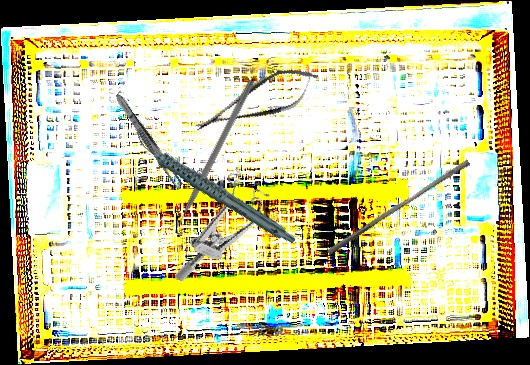Chopper: (162, 74, 256, 236)
Dressing Forceps: (112, 91, 185, 190)
Handpiece: (131, 103, 298, 274)
Micro Scissor: (186, 56, 327, 146)
Pusher: (326, 154, 471, 261)
Speculum: (174, 162, 275, 300)
